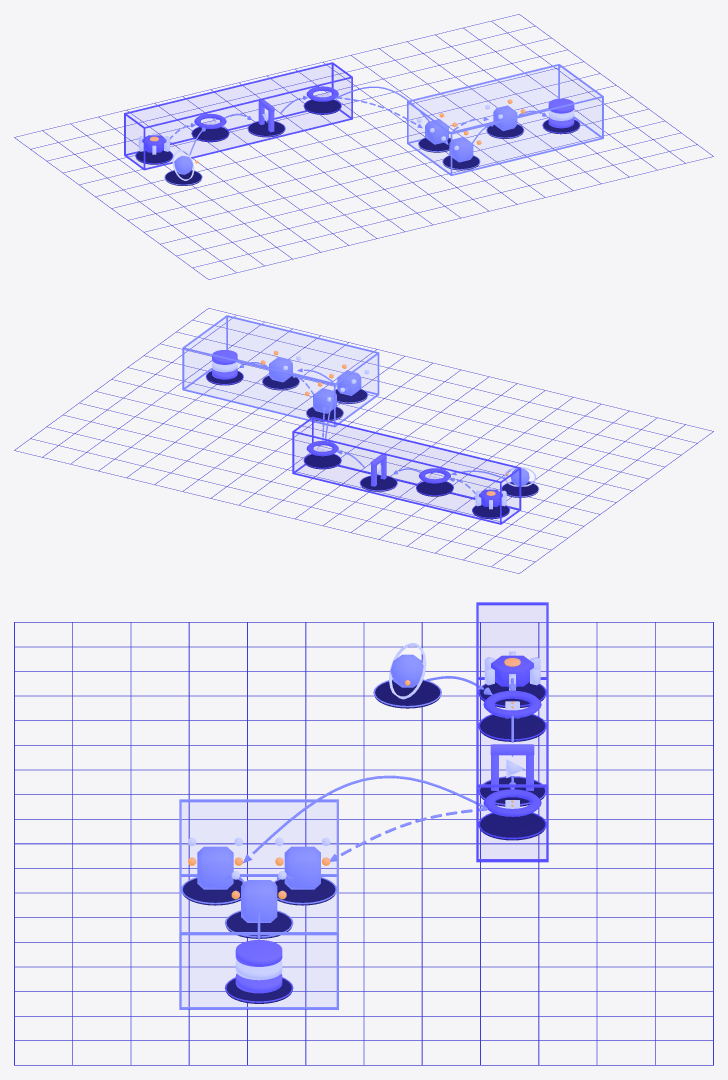
Rendered from vmware-esxi.glb.
3 renders of one model, top to bottom at view 1: azimuth 30°, elevation 25°; view 2: azimuth 150°, elevation 25°; view 3: azimuth 270°, elevation 25°, orthographic. The views are drawn at different scales.
Visible parts, largest first — view 1: floor, group_ESXi_host, group_Private_network, mesh_broker_core, mesh_sh_core, mesh_vsw1_pad, mesh_vsw0_pad, mesh_dc_core, mesh_gw_pad; view 2: floor, group_ESXi_host, group_Private_network, mesh_sh_core, mesh_vsw1_pad, mesh_vsw0_pad, mesh_broker_core, mesh_dc_core; view 3: floor, group_Private_network, group_ESXi_host, mesh_broker_core, mesh_dc_core, mesh_sh_core, mesh_vsw1_pad, mesh_vsw0_pad, mesh_users_pad, mesh_fs_disc2, mesh_vsw1_ring, mesh_dc_pad (+9 smaller).
Boxes of the visible parts, x1=… form: floor: x1=14, y1=14, x2=713, y2=279; group_ESXi_host: x1=124, y1=62, x2=352, y2=170; group_Private_network: x1=407, y1=64, x2=603, y2=175; mesh_broker_core: x1=449, y1=137, x2=473, y2=162; mesh_sh_core: x1=493, y1=105, x2=517, y2=130; mesh_vsw1_pad: x1=304, y1=100, x2=340, y2=114; mesh_vsw0_pad: x1=192, y1=127, x2=228, y2=142; mesh_dc_core: x1=425, y1=119, x2=448, y2=144; mesh_gw_pad: x1=248, y1=121, x2=284, y2=137; floor: x1=14, y1=308, x2=713, y2=573; group_ESXi_host: x1=292, y1=416, x2=521, y2=524; group_Private_network: x1=182, y1=315, x2=379, y2=427; mesh_sh_core: x1=269, y1=356, x2=292, y2=382; mesh_vsw1_pad: x1=304, y1=454, x2=340, y2=469; mesh_vsw0_pad: x1=417, y1=481, x2=452, y2=496; mesh_broker_core: x1=337, y1=370, x2=361, y2=395; mesh_dc_core: x1=313, y1=388, x2=336, y2=413; floor: x1=14, y1=622, x2=713, y2=1065; group_Private_network: x1=179, y1=799, x2=338, y2=1009; group_ESXi_host: x1=476, y1=602, x2=548, y2=862; mesh_broker_core: x1=197, y1=846, x2=233, y2=889; mesh_dc_core: x1=284, y1=846, x2=320, y2=889; mesh_sh_core: x1=241, y1=880, x2=277, y2=922; mesh_vsw1_pad: x1=480, y1=813, x2=545, y2=840; mesh_vsw0_pad: x1=479, y1=715, x2=545, y2=741; mesh_users_pad: x1=375, y1=680, x2=440, y2=708; mesh_fs_disc2: x1=235, y1=940, x2=282, y2=966; mesh_vsw1_ring: x1=483, y1=789, x2=541, y2=816; mesh_dc_pad: x1=275, y1=878, x2=335, y2=905.
Bounding box in the file's own units: 36.03 × 3.43 × 24.03.
